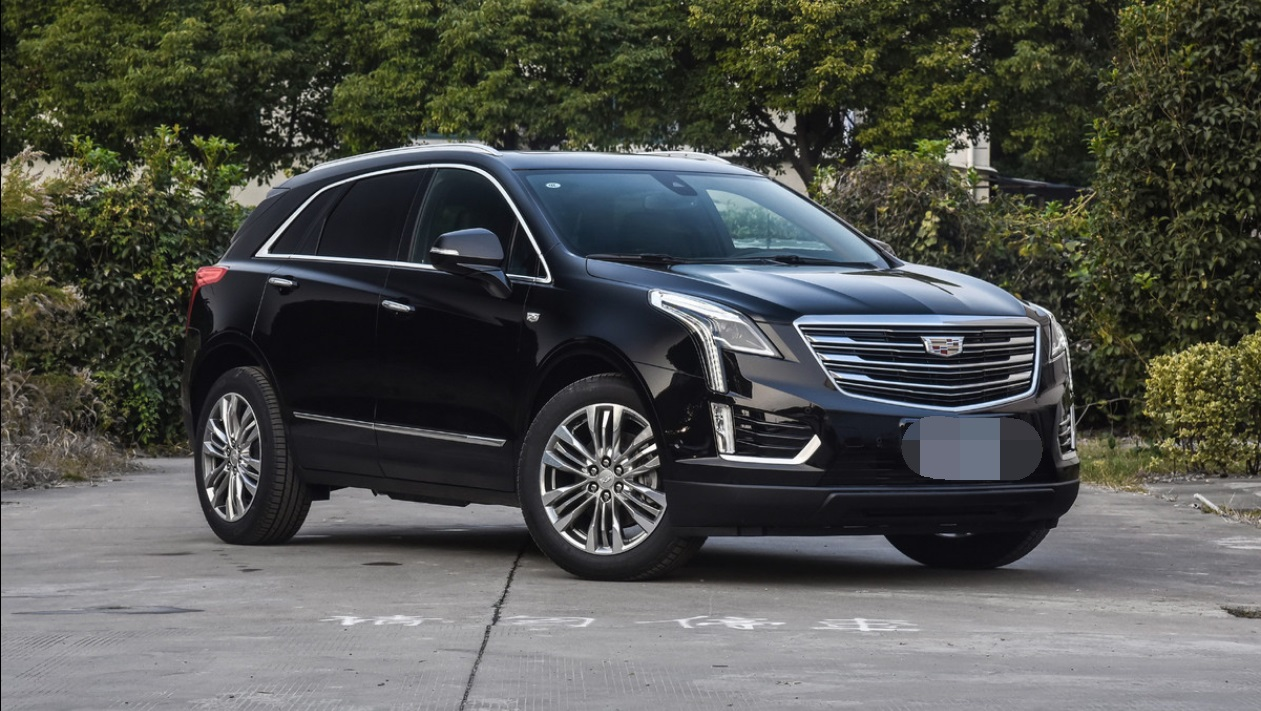SUV: (182, 139, 1087, 584)
